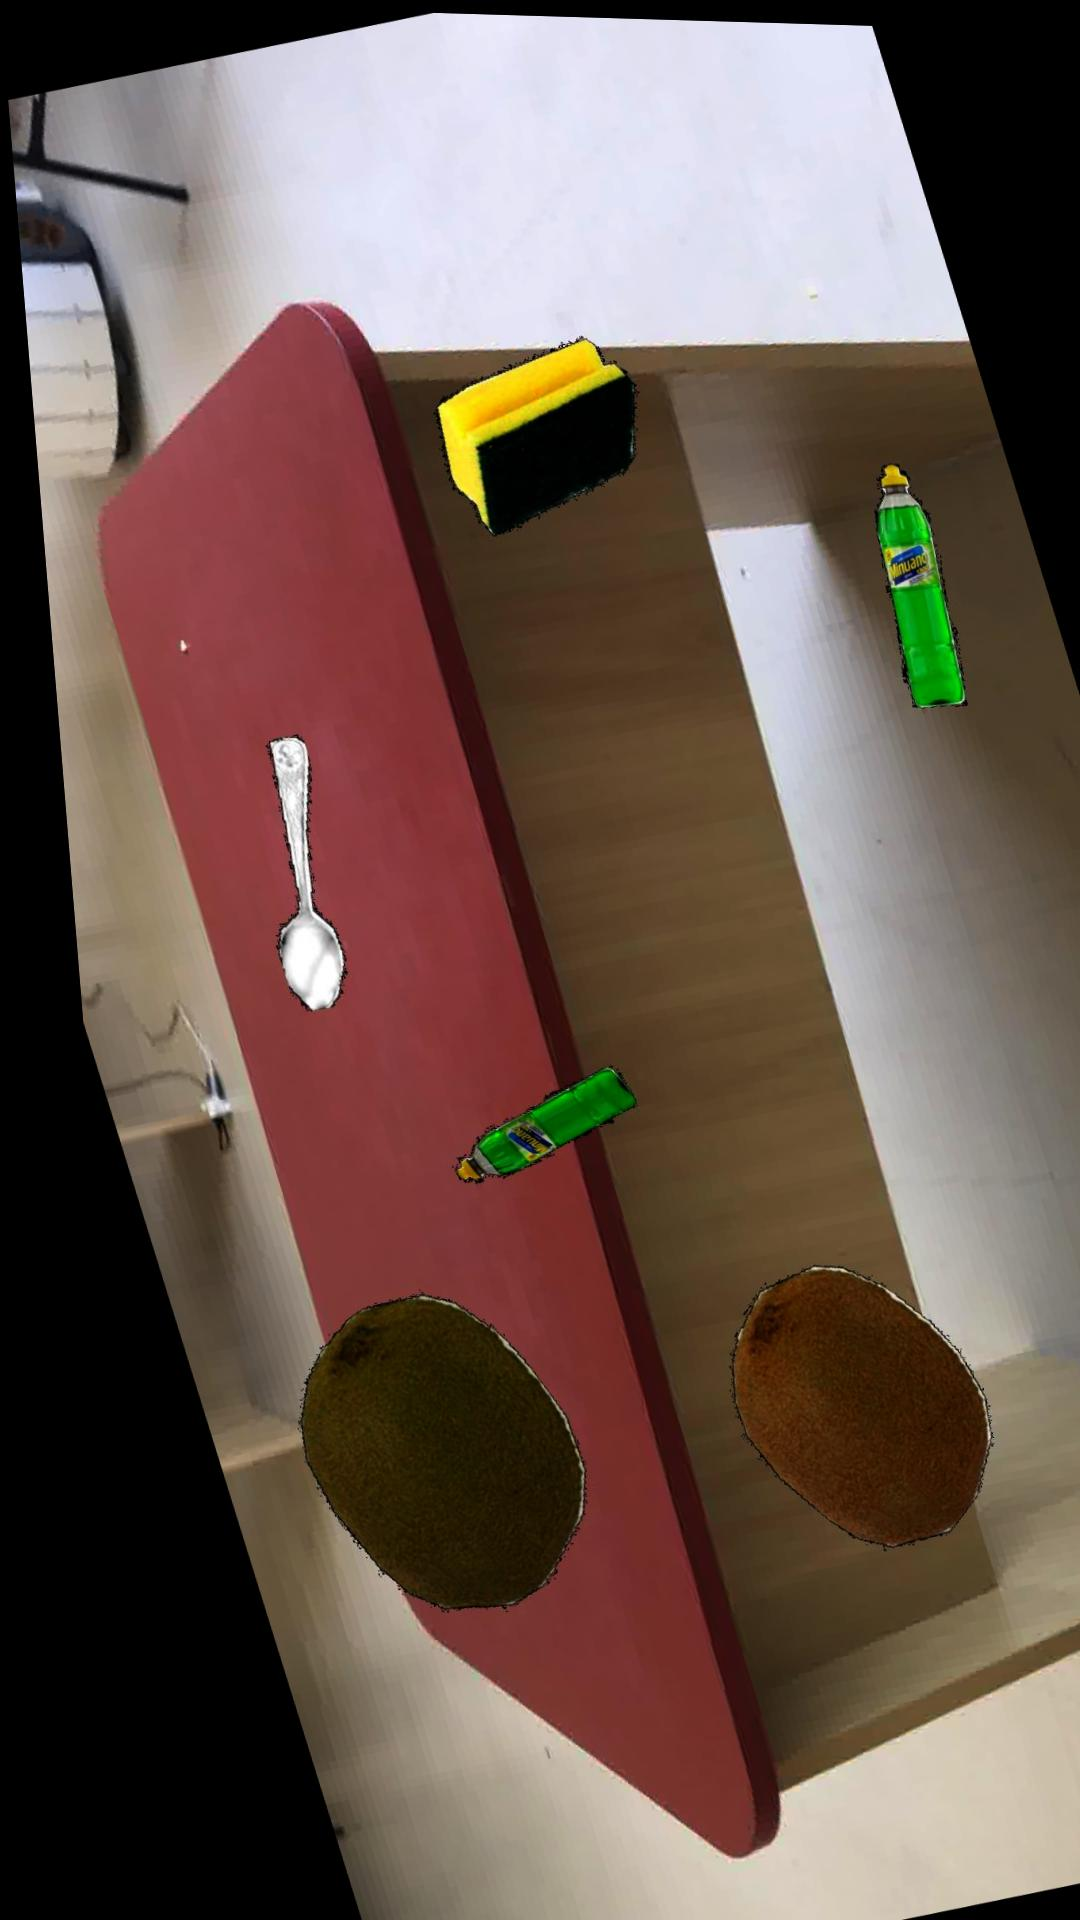cleaner: (868, 456, 957, 700), (436, 1062, 618, 1179)
kiwi: (277, 1290, 562, 1606), (709, 1258, 969, 1542)
sponge: (430, 332, 632, 531)
spoon: (256, 731, 332, 1007)
